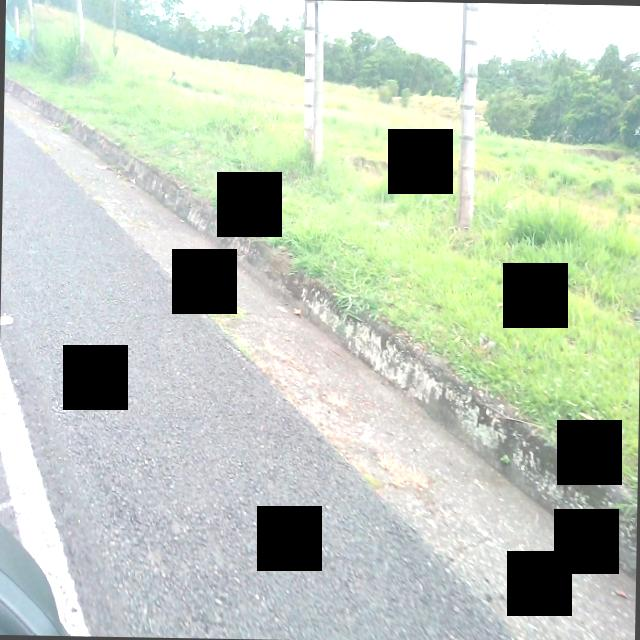DITCH: (0, 75, 640, 640), (0, 112, 640, 640)
